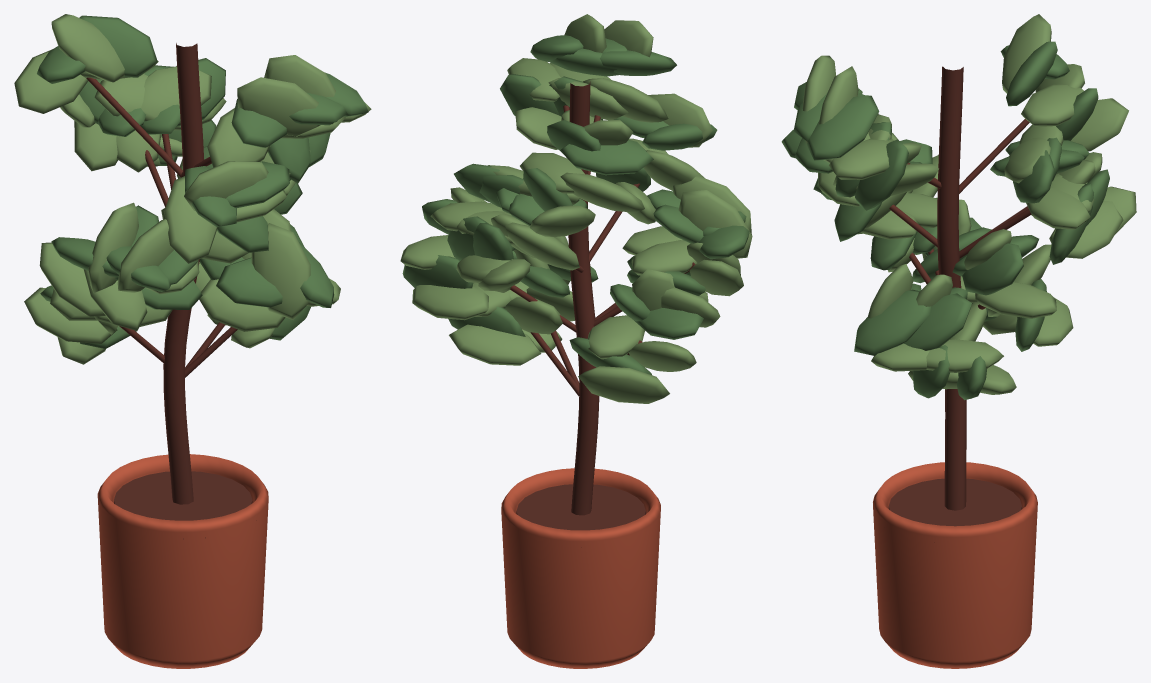
The model's file is planter-tree.glb.
The picture shows the model from 3 angles, left to right: view 1: azimuth 30°, elevation 25°; view 2: azimuth 150°, elevation 25°; view 3: azimuth 270°, elevation 25°; orthographic projection. The views are drawn at different scales.
Visible parts, largest first — view 1: surface-#75915C,0,0.7, surface-#B5543A,0,0.7, surface-#55774A,0,0.7, surface-#5A2E25,0,0.7; view 2: surface-#75915C,0,0.7, surface-#55774A,0,0.7, surface-#B5543A,0,0.7, surface-#5A2E25,0,0.7; view 3: surface-#75915C,0,0.7, surface-#55774A,0,0.7, surface-#B5543A,0,0.7, surface-#5A2E25,0,0.7.
Part boxes in pixels (x1=…): surface-#75915C,0,0.7: x1=14, y1=14, x2=371, y2=364; surface-#B5543A,0,0.7: x1=97, y1=454, x2=268, y2=668; surface-#55774A,0,0.7: x1=37, y1=15, x2=368, y2=348; surface-#5A2E25,0,0.7: x1=86, y1=43, x2=256, y2=539; surface-#75915C,0,0.7: x1=400, y1=14, x2=752, y2=403; surface-#55774A,0,0.7: x1=402, y1=35, x2=749, y2=374; surface-#B5543A,0,0.7: x1=501, y1=468, x2=660, y2=668; surface-#5A2E25,0,0.7: x1=510, y1=81, x2=695, y2=547; surface-#75915C,0,0.7: x1=802, y1=14, x2=1136, y2=394; surface-#55774A,0,0.7: x1=781, y1=41, x2=1109, y2=400; surface-#B5543A,0,0.7: x1=873, y1=462, x2=1037, y2=668; surface-#5A2E25,0,0.7: x1=888, y1=66, x2=1031, y2=542.
Size of the model in its own units: 1.42 by 2.68 by 1.45.
